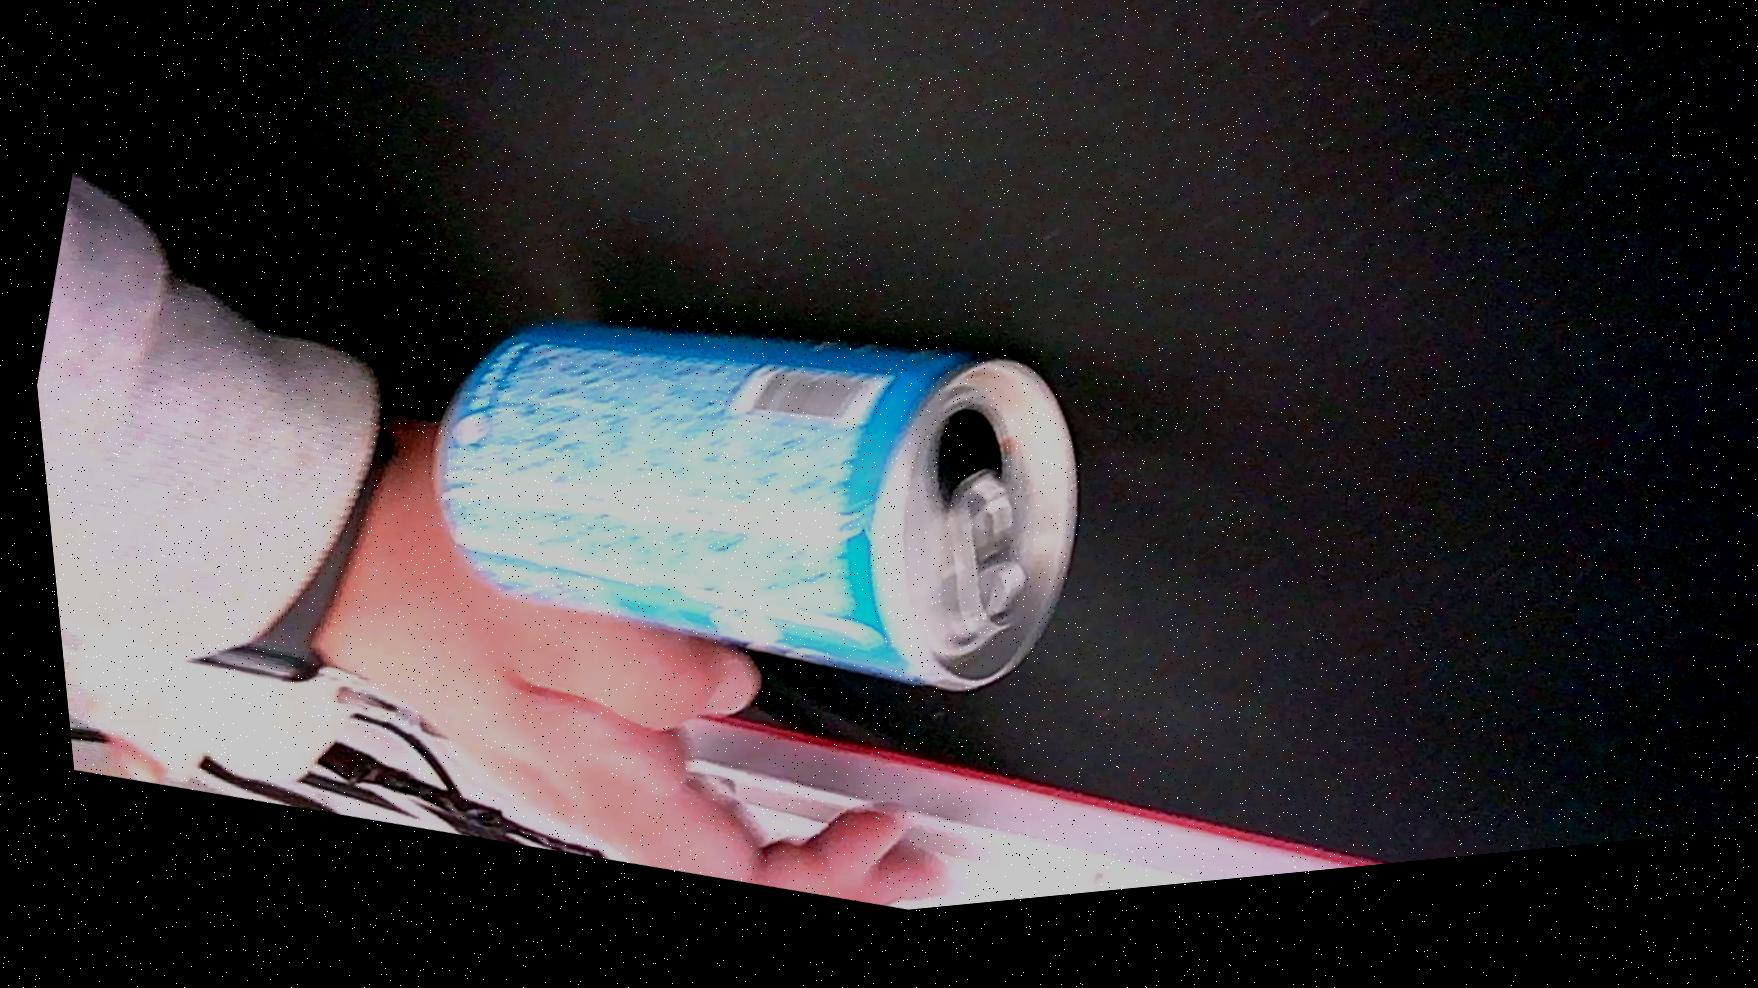letsbe: (370, 227, 1120, 776)
